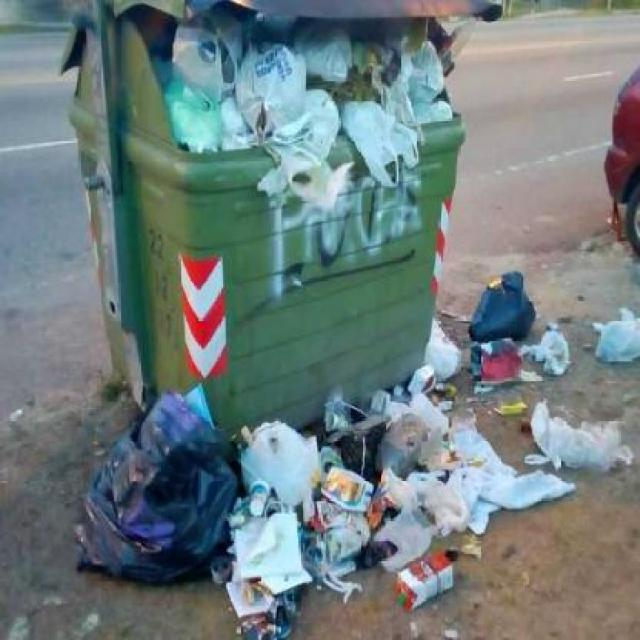garbage: (94, 388, 550, 639), (456, 242, 635, 564), (170, 15, 479, 194)
